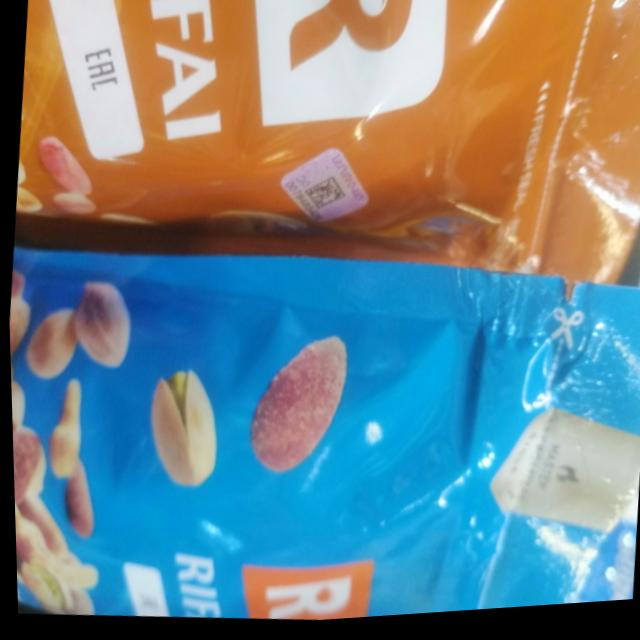datamatrix: (300, 178, 347, 220)
